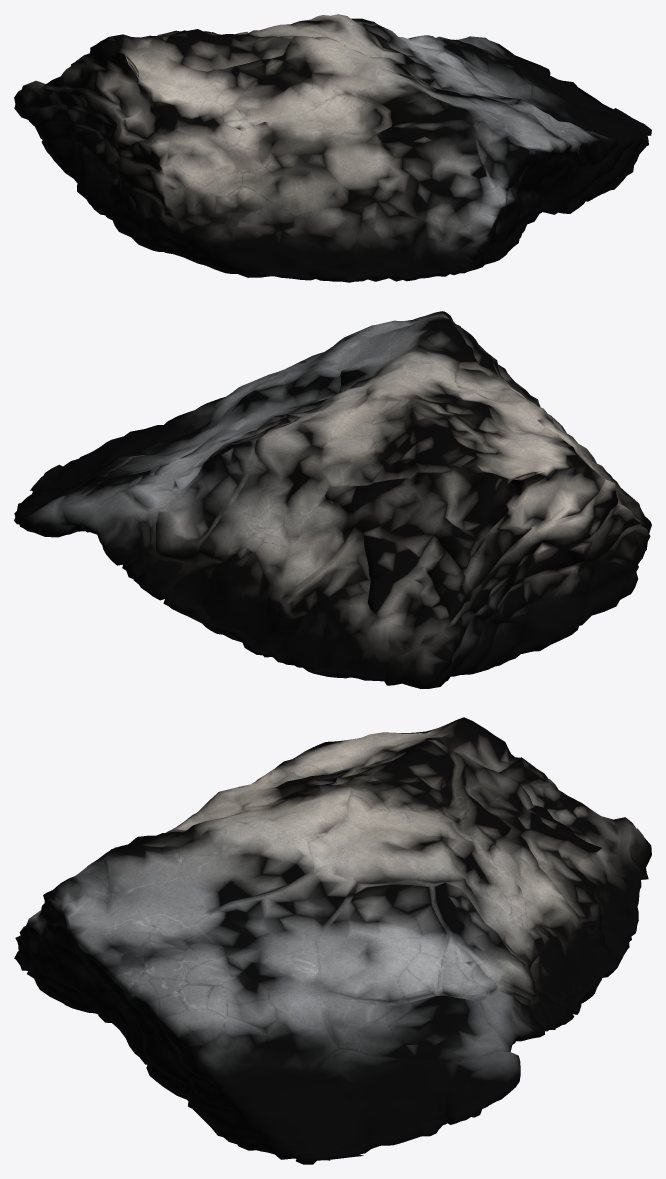
File: headland_c.opt.glb
3 views of the same model, one above another, from view 1: azimuth 30°, elevation 25°; view 2: azimuth 150°, elevation 25°; view 3: azimuth 270°, elevation 25° (orthographic). The views are drawn at different scales.
Parts seen in each view (by area): view 1: headland_c; view 2: headland_c; view 3: headland_c.
Boxes of the visible parts, left/top/right/bottom form: headland_c: left=14, top=14, right=651, bottom=282; headland_c: left=14, top=311, right=651, bottom=688; headland_c: left=14, top=717, right=651, bottom=1164.
Bounding box in the file's own units: 4.03 × 1.33 × 3.74.
Materials: 1 (1 with a texture image).
